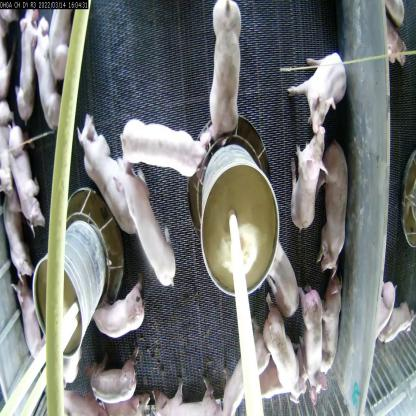Pig: (114, 157, 175, 292), (76, 115, 135, 238), (203, 0, 249, 145), (118, 115, 206, 180), (283, 50, 343, 135), (11, 13, 52, 136), (217, 330, 272, 416), (320, 138, 352, 283), (293, 276, 327, 404), (3, 123, 43, 228), (289, 126, 323, 235), (88, 282, 150, 341), (148, 374, 228, 415), (315, 278, 346, 374), (33, 17, 61, 122), (267, 298, 297, 396), (270, 242, 302, 331), (12, 280, 46, 358), (90, 355, 141, 406)
